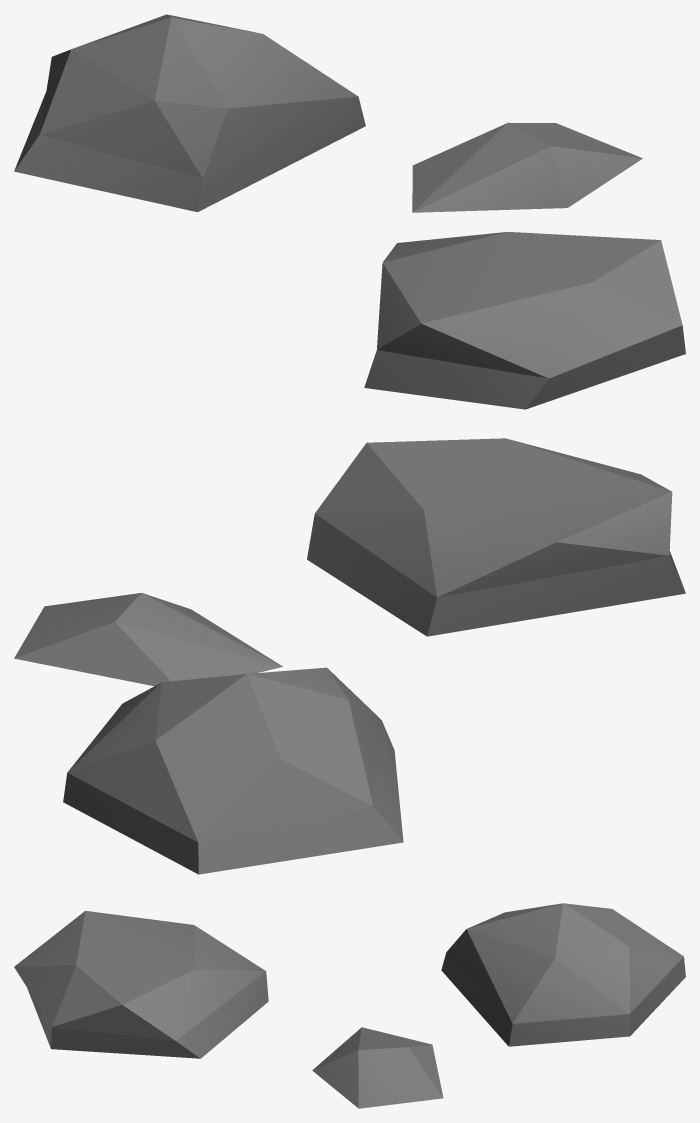
File: stones_2.glb
The picture shows the model from 3 angles, top to bottom: view 1: azimuth 30°, elevation 25°; view 2: azimuth 150°, elevation 25°; view 3: azimuth 270°, elevation 25°; orthographic projection. The views are drawn at different scales.
Parts seen in each view (by area): view 1: stones_2; view 2: stones_2; view 3: stones_2.
Boxes of the visible parts, <box> form: stones_2: <box>14,14,685,409</box>; stones_2: <box>14,438,685,874</box>; stones_2: <box>14,903,685,1108</box>.
Size of the model in its own units: 1.03 by 0.2416 by 1.68.
Materials: 1 (1 with a texture image).
